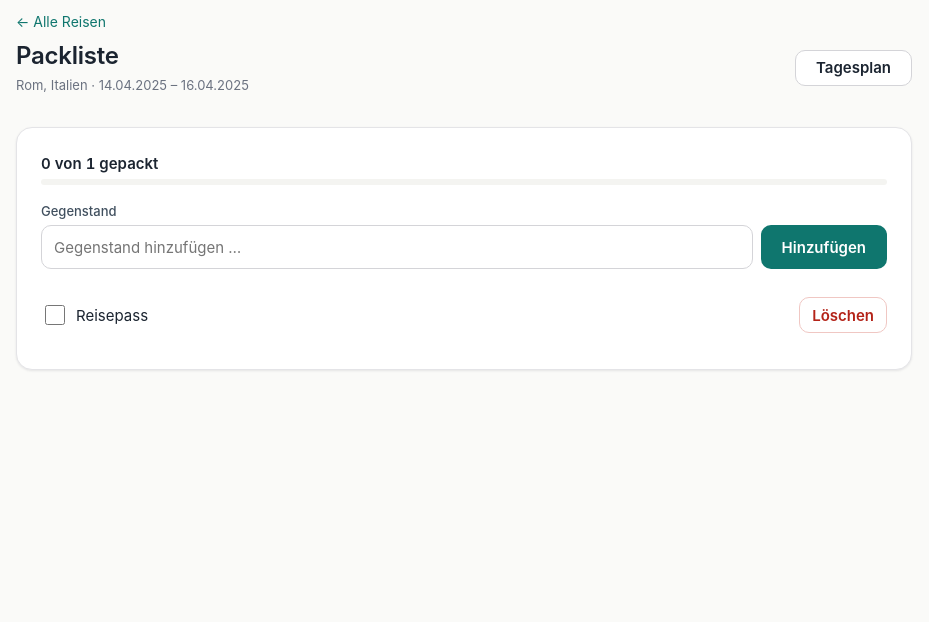
Test: PackingPage › deletes an item through its per-row button
Click the button "Löschen" at (843, 315), box [799,297,887,333]
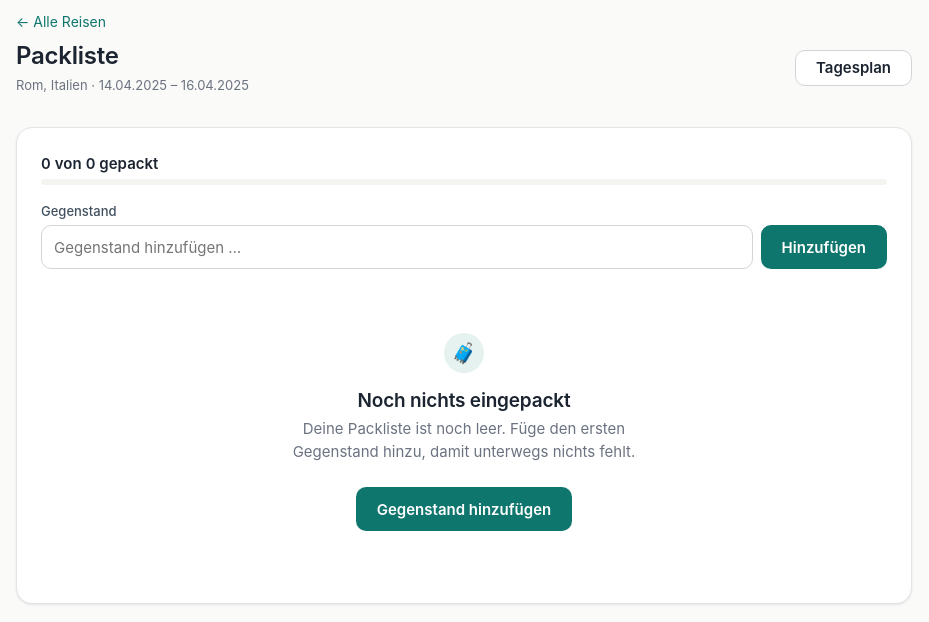
Now the text "Reisepass" is gone
Now the text "0 von 0 gepackt" is shown, box [41,154,158,173]
Now the text "Deine Packliste ist noch leer" is shown, box [293,419,635,461]
